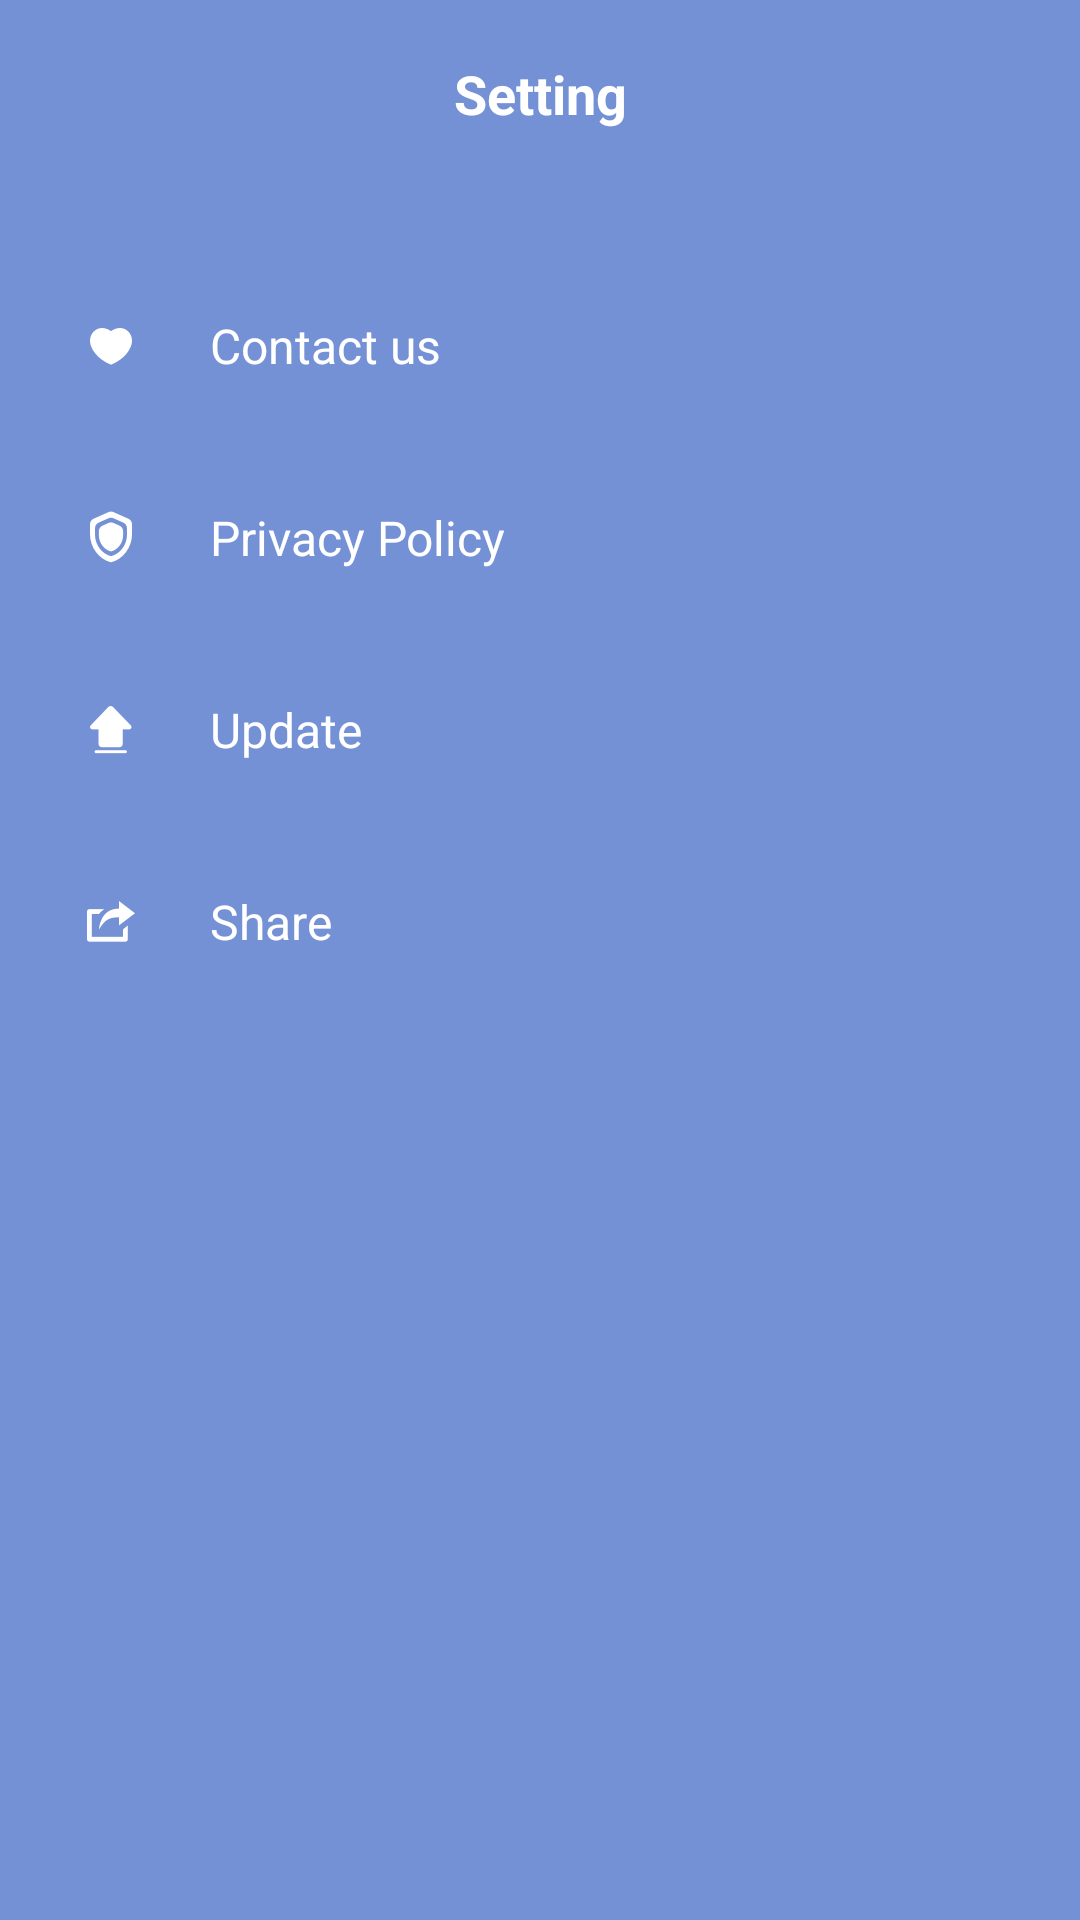

Named icons in this screenshot (1080px×1920px) and their bounding boxes, (x1, y1, x2, y2):
rate: (90, 328, 132, 365)
